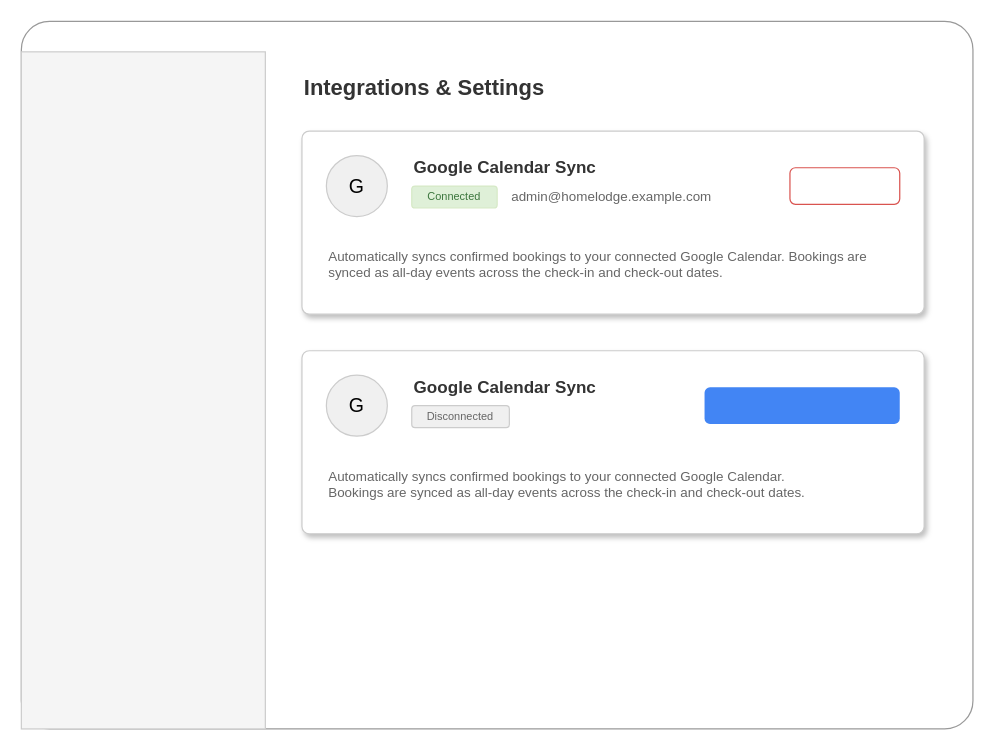
Some shapes in this 994 by 750 pixel diagram are drawn without their labels. The shapes that lost their labels are listed below. From the top down, each one's centre as x and y in pixels, then its label:
At pixel 844 185: "Disconnect".
At pixel 801 405: "Connect Google Account".
